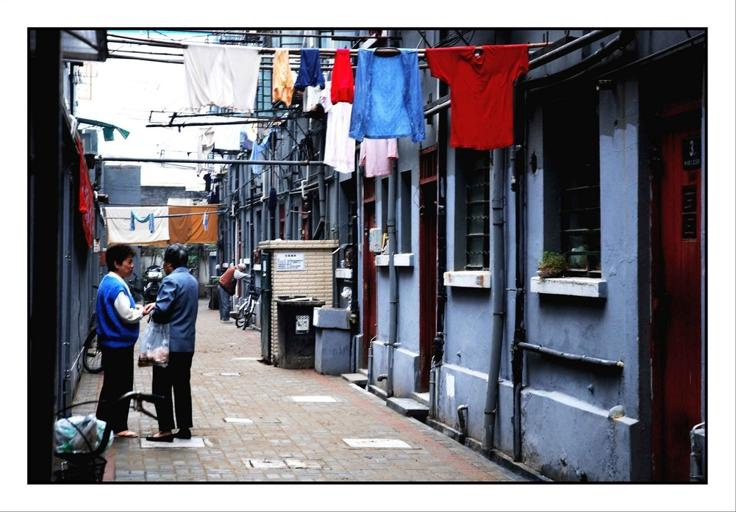non-vehicle: (46, 389, 167, 482), (81, 278, 141, 373), (235, 277, 265, 330)
